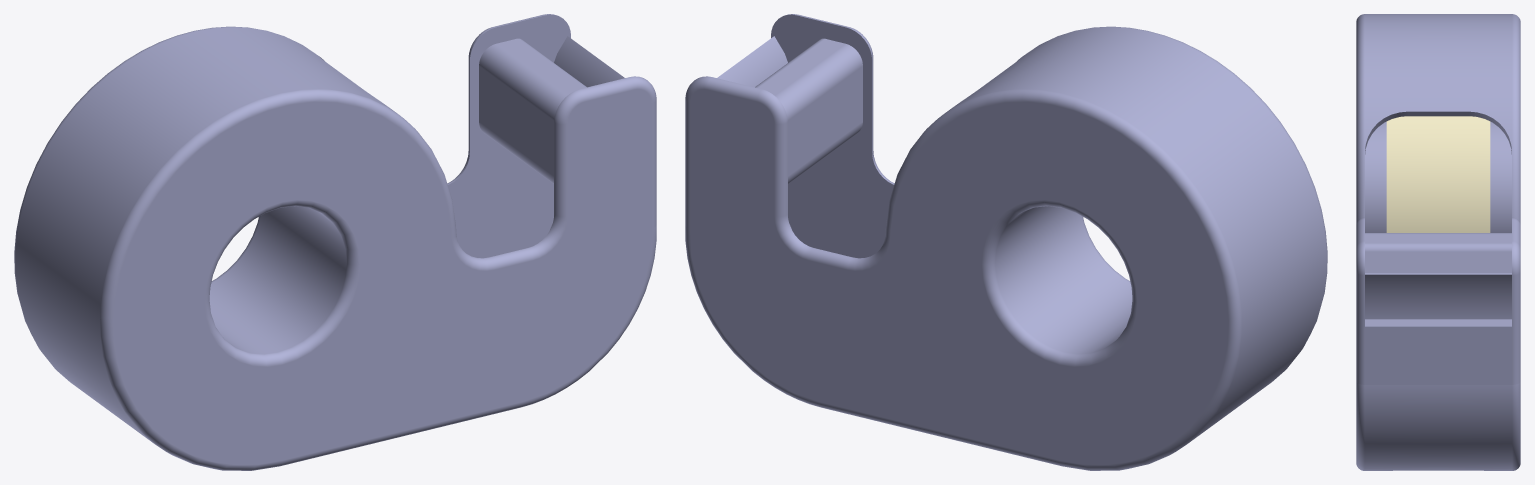
File: 219_セロテープテープカッター.glb
The picture shows the model from 3 angles, left to right: view 1: azimuth 30°, elevation 25°; view 2: azimuth 150°, elevation 25°; view 3: azimuth 270°, elevation 25°; orthographic projection. The views are drawn at different scales.
Visible parts, largest first — view 1: body; view 2: body; view 3: body, セロテープ.
Boxes of the visible parts, x1,y1,x2,y2 form: body: (14,14,656,470); body: (685,14,1327,470); body: (1356,14,1520,470); セロテープ: (1386,116,1490,232).
Size of the model in its own units: 0.0647 by 0.0414 by 0.019.
